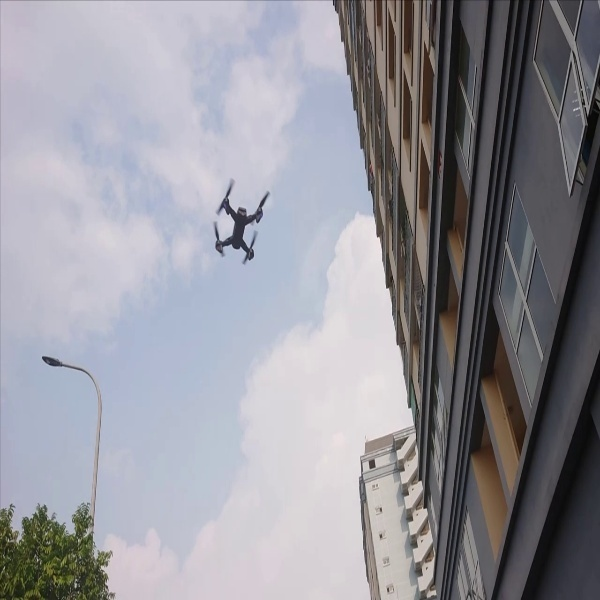drone: (206, 169, 274, 279)
